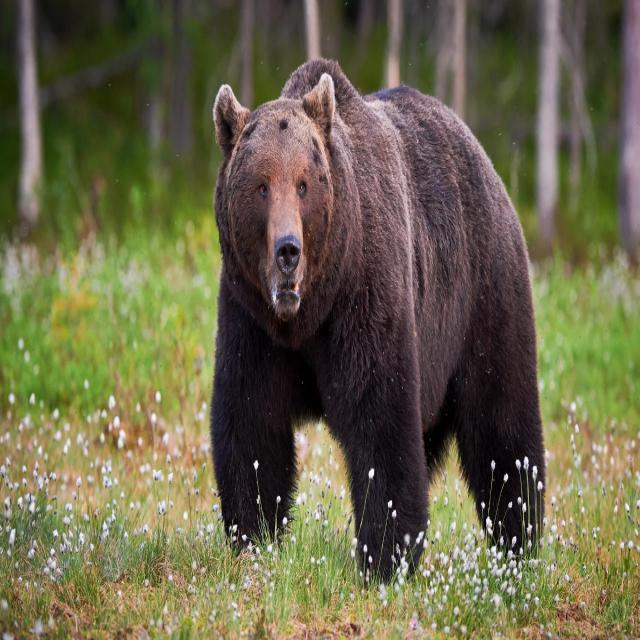Bear: (208, 59, 548, 588)
